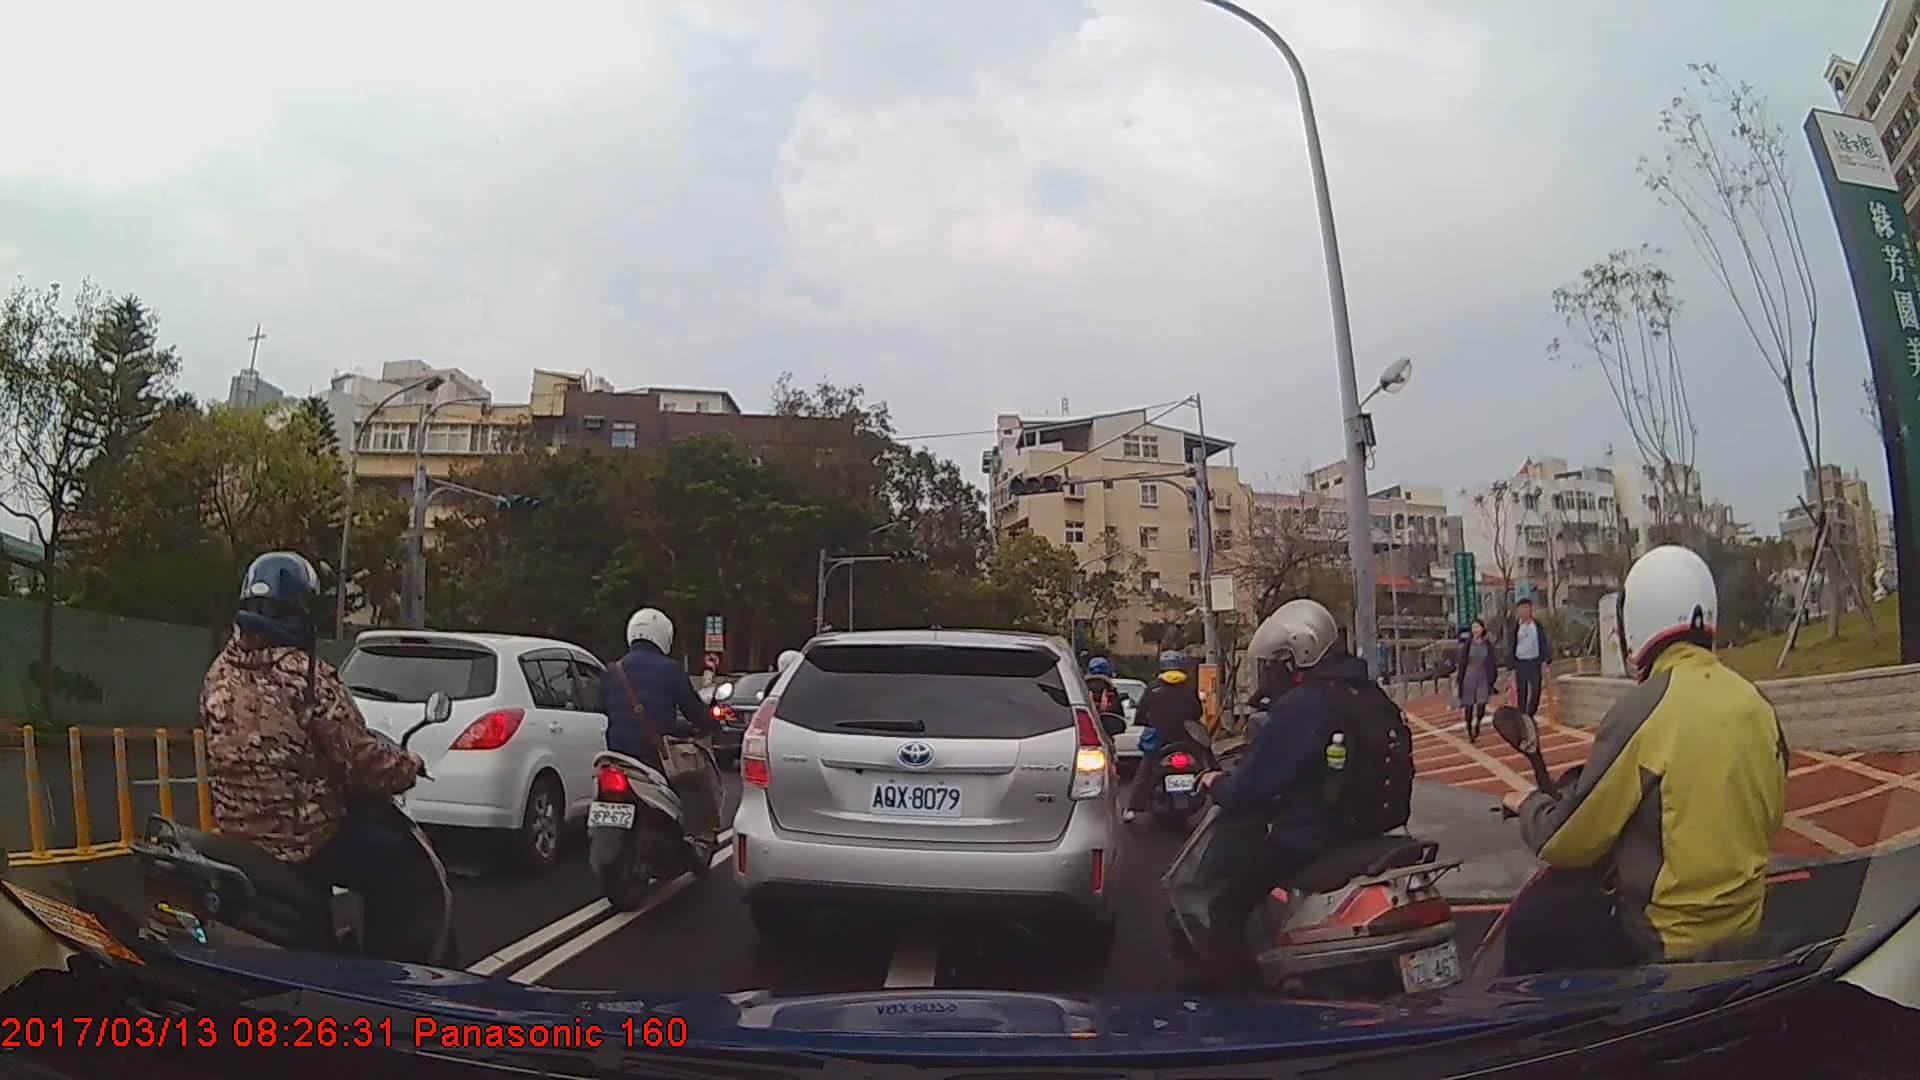pedestrian: (1505, 600, 1550, 747), (1450, 619, 1497, 744)
rider: (1460, 548, 1848, 1074), (123, 548, 458, 1007), (1161, 598, 1466, 1017), (583, 606, 735, 914), (1125, 644, 1228, 842), (1063, 659, 1127, 793)
vehicle: (730, 628, 1124, 954), (304, 629, 668, 861), (708, 672, 823, 770)
